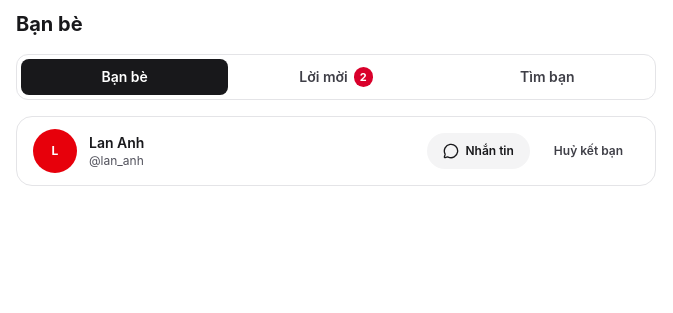
it: SOC-6b: /ban-be › lists friends with Nhắn tin, and requests with a count badge; accept and dismiss update the list
Expected: the text "Lan Anh" is shown, x1=89 y1=133 x2=144 y2=153
Expected: the text named "2 lời mời" is shown, x1=354 y1=67 x2=373 y2=87
Click the tab "Lời mời 2".
click(336, 77)  # box x1=232 y1=59 x2=440 y2=95
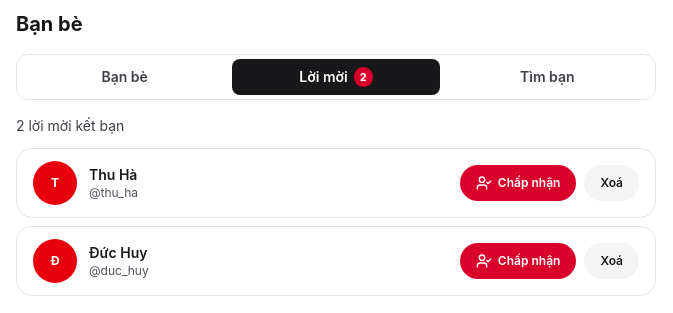
Click the button with aria-label "Chấp nhận lời mời kết bạn của Thu Hà".
click(518, 183)  # box x1=460 y1=165 x2=576 y2=201
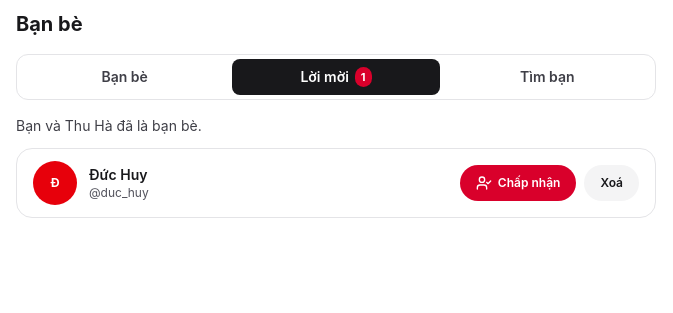
Now the text "Bạn và Thu Hà đã là bạn bè." is shown, box x1=16 y1=117 x2=202 y2=134
Now the text named "1 lời mời" is shown, box x1=355 y1=67 x2=372 y2=87
Click the button with aria-label "Xoá lời mời kết bạn của Đức Huy".
click(612, 183)  # box x1=584 y1=165 x2=639 y2=201
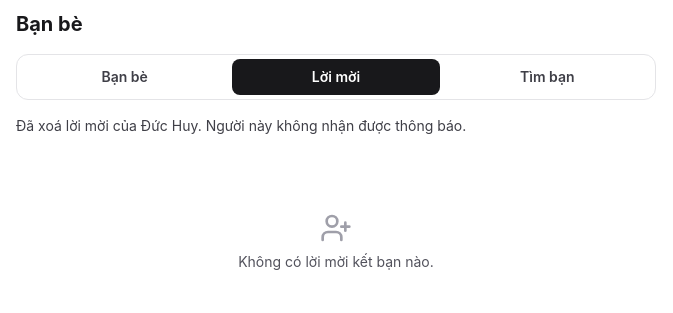
Now the text "Đã xoá lời mời của Đức Huy" is shown, box x1=16 y1=117 x2=466 y2=134
Now the text "Không có lời mời kết bạn nào." is shown, box x1=238 y1=252 x2=434 y2=272
